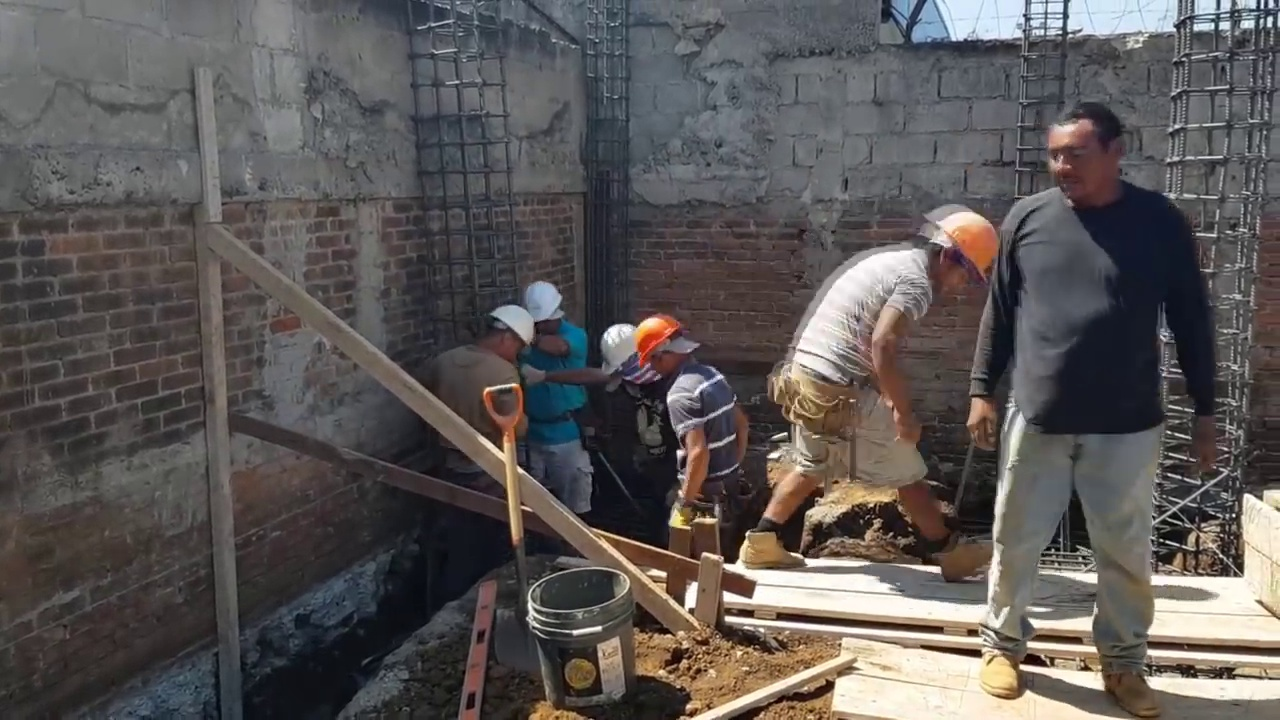helmet: (910, 213, 997, 288), (935, 207, 997, 283), (642, 305, 690, 357), (499, 295, 548, 341), (521, 286, 565, 327), (604, 325, 638, 368)
helmet-off: (1047, 93, 1138, 201)
helmet-on: (629, 315, 692, 388), (588, 316, 638, 382), (478, 307, 533, 359)
person: (960, 96, 1220, 718), (744, 205, 1001, 582), (398, 314, 541, 544), (594, 307, 698, 519), (653, 319, 742, 550), (517, 284, 605, 497)
